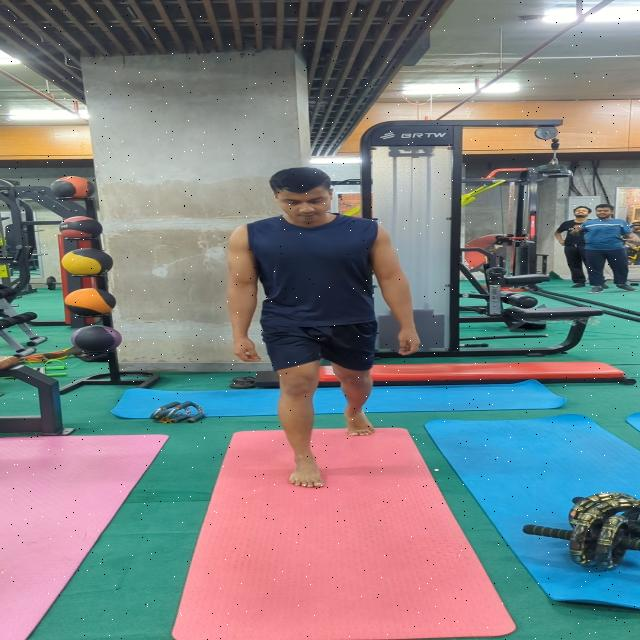Normal_Lunges: (225, 163, 426, 490)
